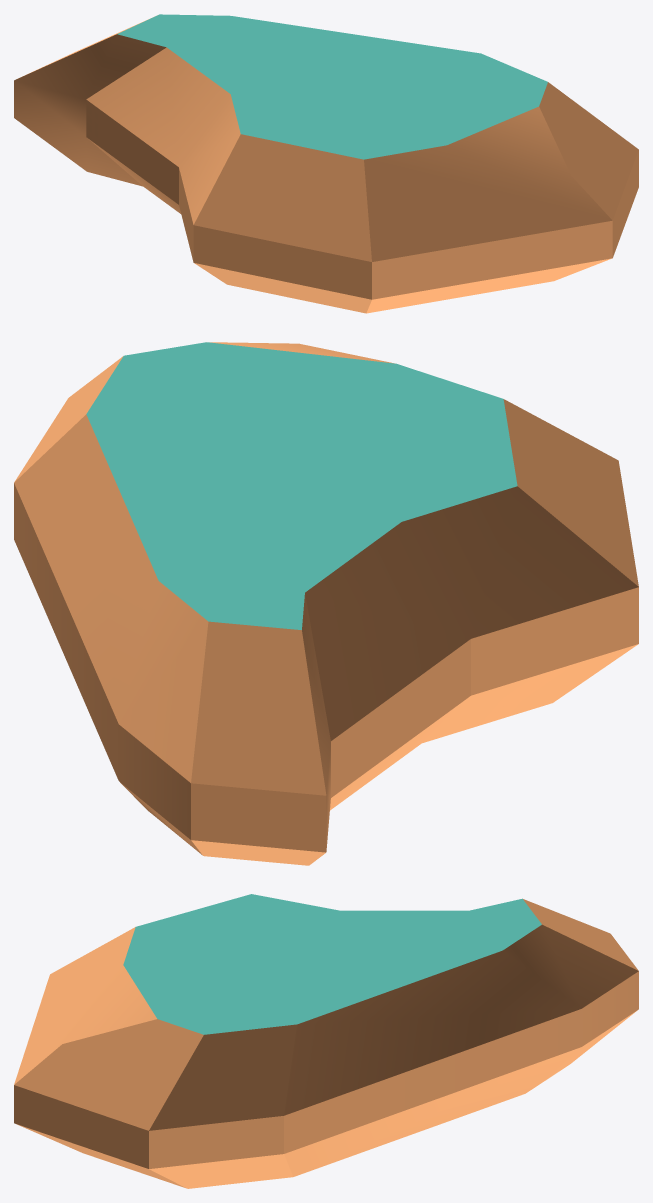
Rendered from rock_large1.obj.
3 renders of one model, top to bottom at view 1: azimuth 30°, elevation 25°; view 2: azimuth 150°, elevation 25°; view 3: azimuth 270°, elevation 25°, orthographic. The views are drawn at different scales.
Parts seen in each view (by area): view 1: rock_large1; view 2: rock_large1; view 3: rock_large1.
Part boxes in pixels (x1,y1,x2,y2): rock_large1: (14,14,638,313); rock_large1: (14,342,638,865); rock_large1: (14,894,638,1188).
Bounding box in the file's own units: 7.85 × 2.6 × 10.15.
